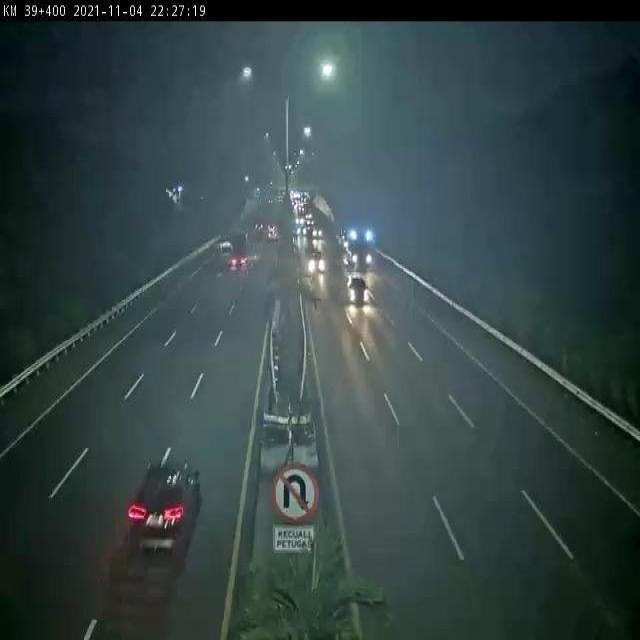car: (125, 467, 201, 552), (345, 273, 370, 307), (306, 248, 325, 273)
truck-m-: (229, 232, 250, 268)
